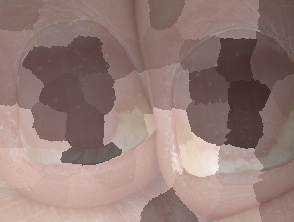Nail_psoriasis: (16, 2, 183, 153), (170, 27, 294, 187)
